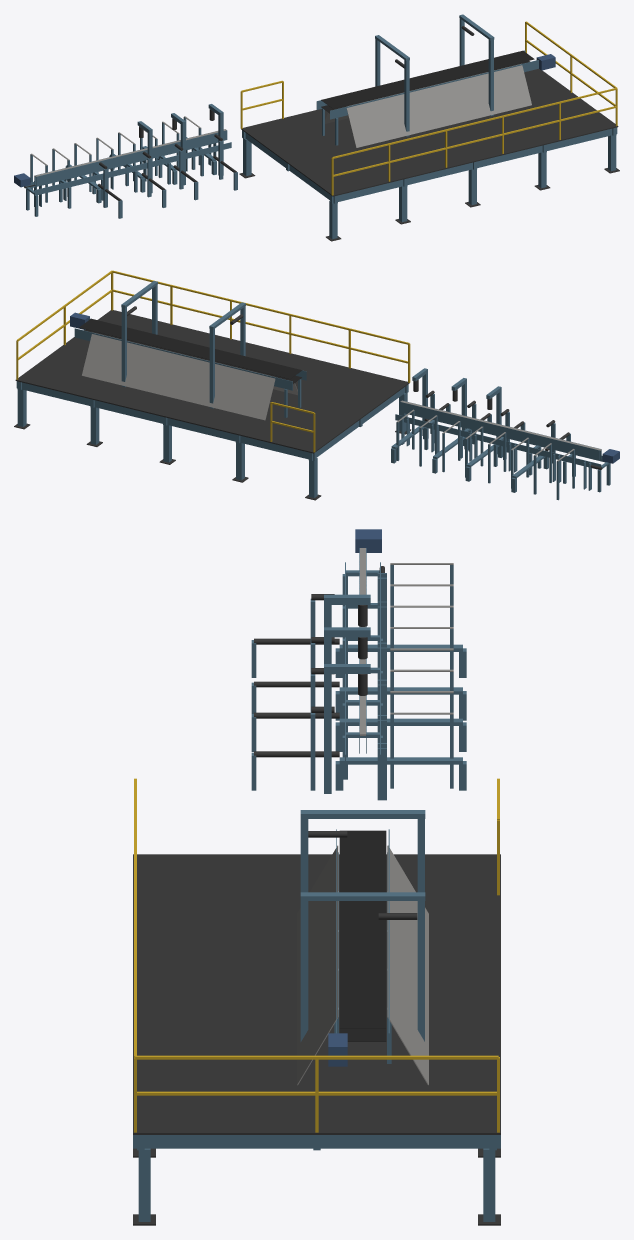
Rendered from board_edger_frame.glb.
3 renders of one model, top to bottom at view 1: azimuth 30°, elevation 25°; view 2: azimuth 150°, elevation 25°; view 3: azimuth 270°, elevation 25°, orthographic. The views are drawn at different scales.
Visible parts, largest first — view 1: ED_FrameMesh; view 2: ED_FrameMesh; view 3: ED_FrameMesh.
Part boxes in pixels (bbox=[...]): ED_FrameMesh: bbox=[14, 14, 619, 241]; ED_FrameMesh: bbox=[14, 270, 619, 500]; ED_FrameMesh: bbox=[133, 529, 500, 1225].
Bounding box in the file's own units: 16.39 × 3.56 × 4.8.
